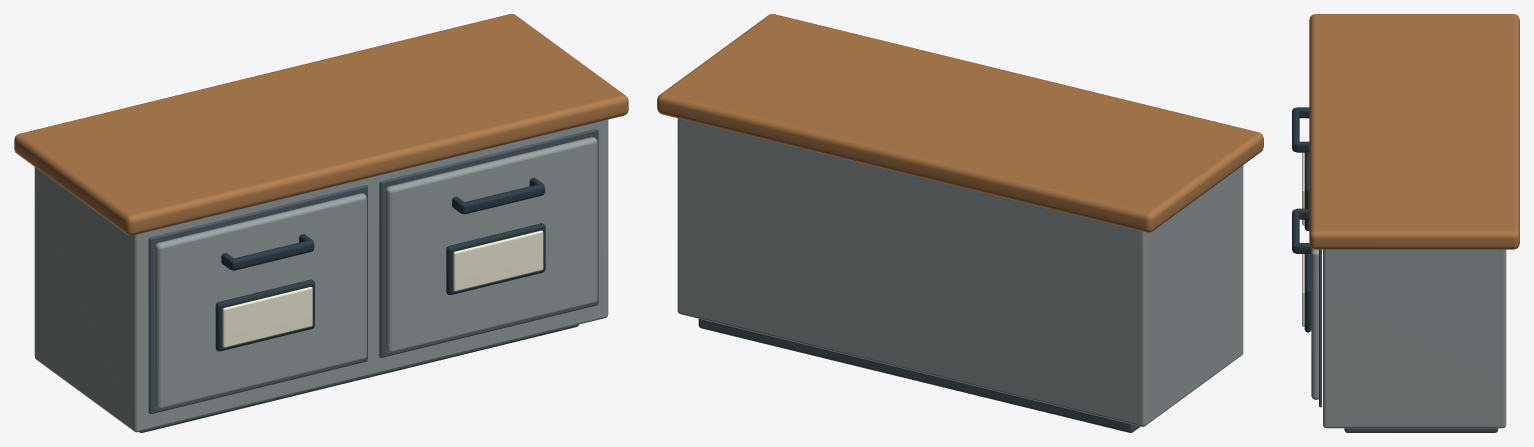
File: ArchiveCabinet.fbx
3 views of the same model, side by side, from view 1: azimuth 30°, elevation 25°; view 2: azimuth 150°, elevation 25°; view 3: azimuth 270°, elevation 25° (orthographic). The views are drawn at different scales.
Parts seen in each view (by area): view 1: Oak counter, Cabinet body, S_B drawer face, S_A drawer face, S_B drawer reveal, S_A drawer reveal, S_B blank live-text label plate, S_A blank live-text label plate, S_B label bezel, S_A label bezel, Dark recessed plinth, S_A pull bar (+1 smaller); view 2: Cabinet body, Oak counter, Dark recessed plinth; view 3: Oak counter, Cabinet body, S_B drawer face, Dark recessed plinth, S_B label bezel, S_B drawer reveal, S_A label bezel, S_A pull bar, S_B pull bar.
Boxes of the visible parts, <box> form: Oak counter: <box>14,14,628,235</box>; Cabinet body: <box>34,119,608,432</box>; S_B drawer face: <box>385,137,597,352</box>; S_A drawer face: <box>154,193,366,409</box>; S_B drawer reveal: <box>379,129,598,357</box>; S_A drawer reveal: <box>148,185,367,414</box>; S_B blank live-text label plate: <box>453,230,543,291</box>; S_A blank live-text label plate: <box>222,287,312,347</box>; S_B label bezel: <box>446,223,545,294</box>; S_A label bezel: <box>215,279,314,351</box>; Dark recessed plinth: <box>139,324,578,432</box>; S_A pull bar: <box>230,240,314,270</box>; Cabinet body: <box>677,118,1243,426</box>; Oak counter: <box>657,14,1263,232</box>; Dark recessed plinth: <box>698,319,1140,432</box>; Oak counter: <box>1309,14,1519,249</box>; Cabinet body: <box>1323,249,1506,428</box>; S_B drawer face: <box>1311,248,1318,399</box>; Dark recessed plinth: <box>1344,428,1498,432</box>; S_B label bezel: <box>1304,254,1311,332</box>; S_B drawer reveal: <box>1319,249,1321,407</box>; S_A label bezel: <box>1304,152,1309,230</box>; S_A pull bar: <box>1292,108,1299,151</box>; S_B pull bar: <box>1292,209,1299,253</box>.
Bounding box in the file's own units: 1.94 × 0.8775 × 0.844.
